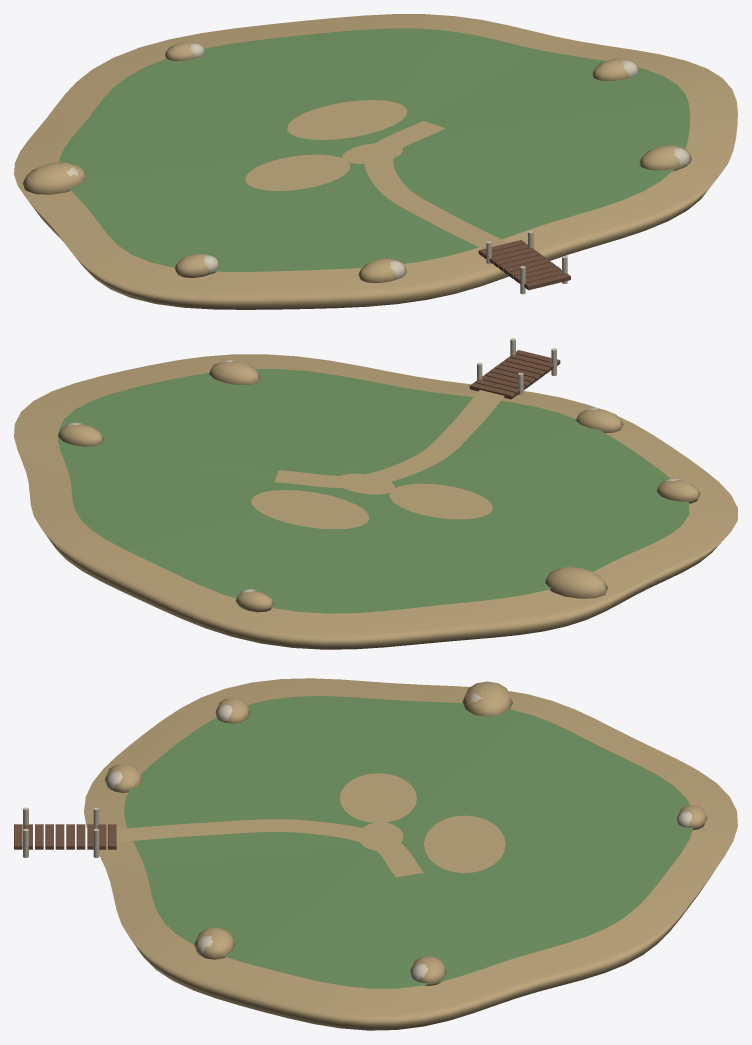
Rendered from farm-island.glb.
3 views of the same model, one above another, from view 1: azimuth 30°, elevation 25°; view 2: azimuth 150°, elevation 25°; view 3: azimuth 270°, elevation 25° (orthographic). The views are drawn at different scales.
Parts seen in each view (by area): view 1: meadow, shore, worn-ground, rocks, path, jetty, shell; view 2: meadow, shore, worn-ground, rocks, path, jetty; view 3: meadow, shore, worn-ground, rocks, path, jetty, shell.
Part boxes in pixels (bbox=[...]): meadow: bbox=[59, 28, 690, 271]; shore: bbox=[14, 14, 737, 309]; worn-ground: bbox=[245, 100, 407, 190]; rocks: bbox=[22, 42, 691, 282]; path: bbox=[364, 120, 508, 248]; jetty: bbox=[478, 240, 570, 290]; shell: bbox=[486, 231, 567, 294]; meadow: bbox=[58, 369, 689, 613]; shore: bbox=[14, 354, 737, 649]; worn-ground: bbox=[251, 473, 492, 529]; rocks: bbox=[58, 359, 700, 612]; path: bbox=[274, 390, 504, 487]; jetty: bbox=[469, 350, 560, 399]; meadow: bbox=[124, 696, 693, 988]; shore: bbox=[84, 678, 737, 1030]; worn-ground: bbox=[339, 773, 505, 872]; rocks: bbox=[104, 681, 707, 985]; path: bbox=[106, 819, 423, 877]; jetty: bbox=[14, 824, 116, 849]; shell: bbox=[23, 807, 99, 857].
Bounding box in the file's own units: 17.56 × 1.13 × 15.92.
